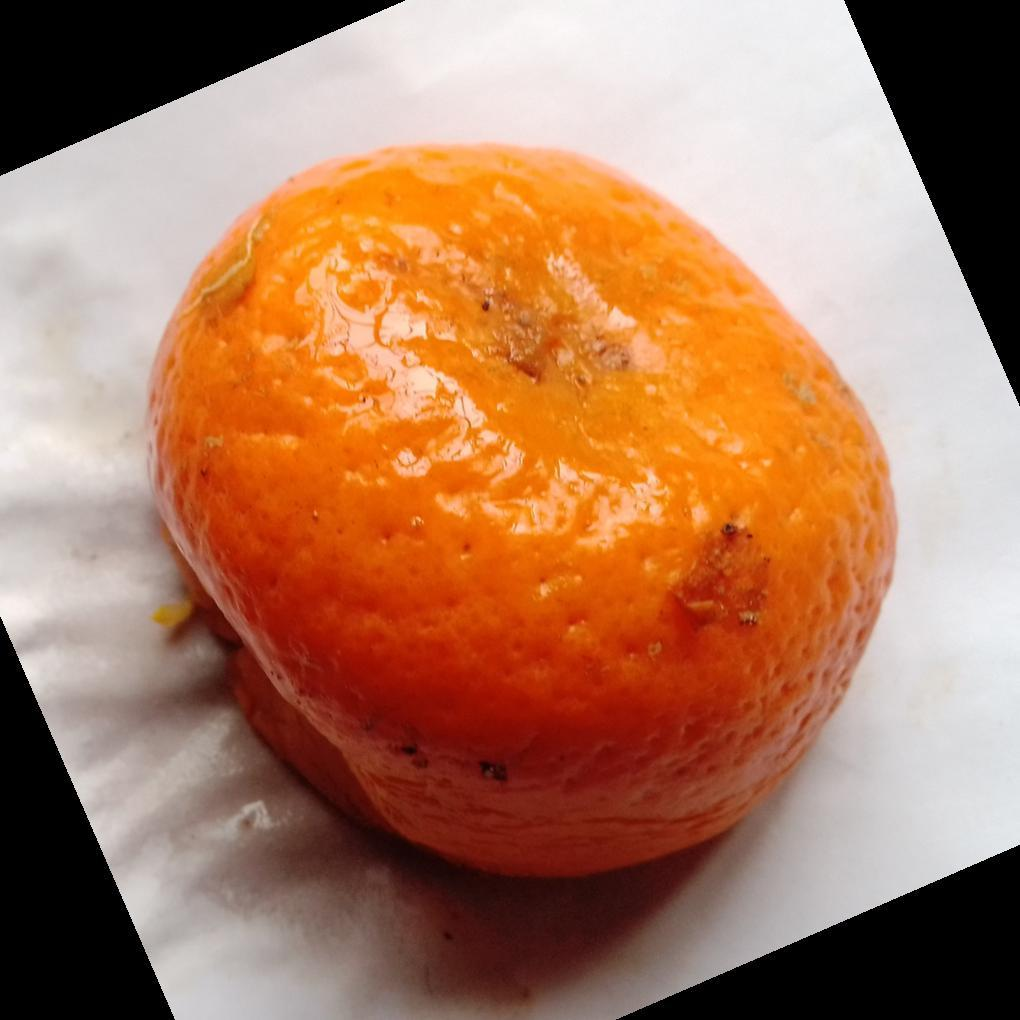FreshOrange: (145, 142, 900, 885)
